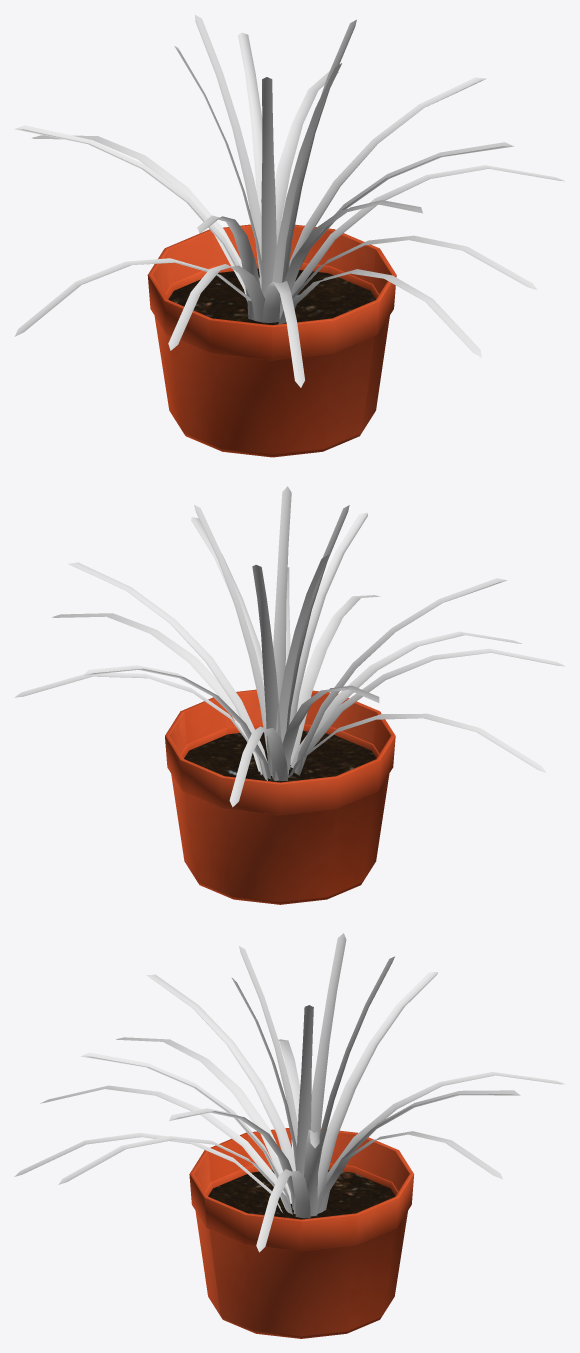
File: Plants_Pots_9.fbx
3 renders of one model, top to bottom at view 1: azimuth 30°, elevation 25°; view 2: azimuth 150°, elevation 25°; view 3: azimuth 270°, elevation 25°, orthographic. The views are drawn at different scales.
Parts seen in each view (by area): view 1: Cylinder.012; view 2: Cylinder.012; view 3: Cylinder.012.
Boxes of the visible parts, <box> form: Cylinder.012: <box>14,15,564,457</box>; Cylinder.012: <box>14,486,565,904</box>; Cylinder.012: <box>14,933,564,1338</box>.
Size of the model in its own units: 51.5 by 34.02 by 50.25.
